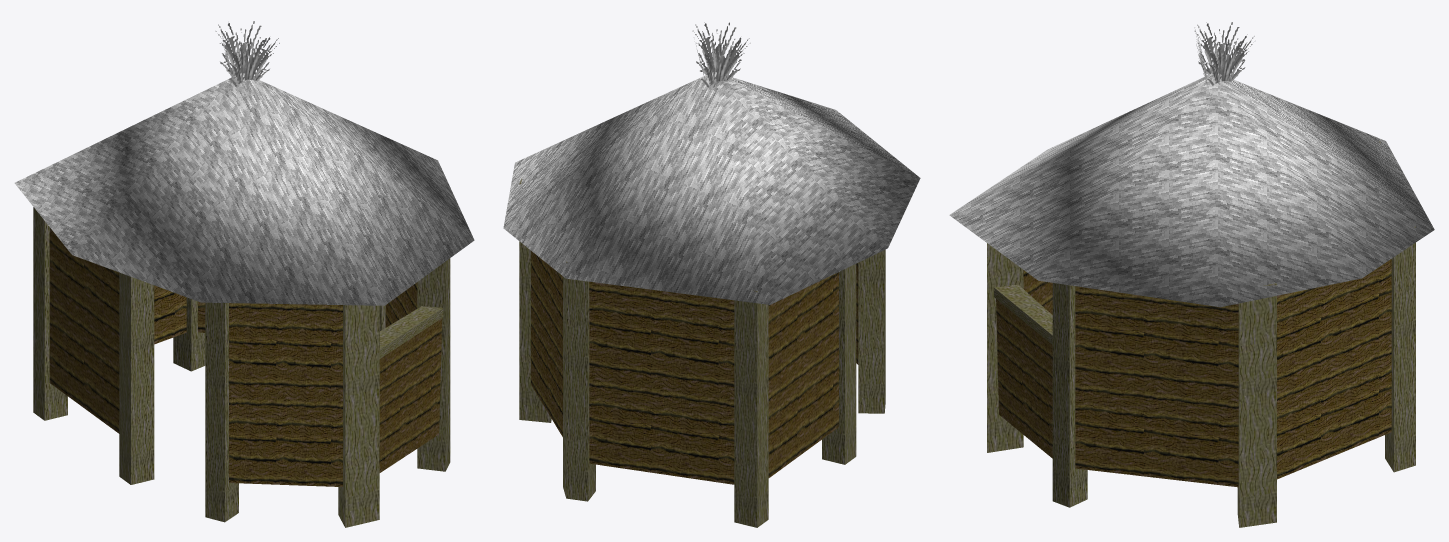
Rendered from hut.obj.
The picture shows the model from 3 angles, left to right: view 1: azimuth 30°, elevation 25°; view 2: azimuth 150°, elevation 25°; view 3: azimuth 270°, elevation 25°; orthographic projection.
Parts seen in each view (by area): view 1: Cylinder05, Duplicate11, Box01, Duplicate04, Duplicate01, Duplicate12, Duplicate03, Duplicate05, Box02, Duplicate08, Duplicate13, Duplicate06 (+1 smaller); view 2: Cylinder05, Duplicate08, Box01, Box02, Duplicate06, Duplicate09, Duplicate03, Duplicate01, Duplicate07, Duplicate04; view 3: Cylinder05, Duplicate10, Duplicate09, Duplicate07, Duplicate05, Duplicate12, Duplicate06, Duplicate04, Duplicate13, Duplicate11.
Boxes of the visible parts, x1,y1,x2,y2 form: Cylinder05: [14, 73, 474, 305]; Duplicate11: [229, 303, 342, 486]; Box01: [49, 37, 279, 433]; Duplicate04: [220, 27, 379, 527]; Duplicate01: [119, 272, 154, 484]; Duplicate12: [379, 318, 442, 472]; Duplicate03: [205, 302, 238, 522]; Duplicate05: [215, 21, 450, 471]; Box02: [33, 207, 67, 420]; Duplicate08: [154, 285, 186, 344]; Duplicate13: [366, 306, 443, 367]; Duplicate06: [173, 297, 205, 371]; Cylinder05: [503, 72, 920, 304]; Duplicate08: [589, 281, 734, 484]; Box01: [693, 22, 838, 477]; Box02: [734, 290, 768, 527]; Duplicate06: [563, 261, 595, 501]; Duplicate09: [531, 251, 562, 436]; Duplicate03: [858, 249, 885, 413]; Duplicate01: [822, 264, 856, 464]; Duplicate07: [519, 178, 551, 422]; Duplicate04: [700, 37, 750, 87]; Cylinder05: [949, 73, 1434, 307]; Duplicate10: [1075, 286, 1238, 487]; Duplicate09: [1277, 259, 1391, 479]; Duplicate07: [1237, 283, 1276, 527]; Duplicate05: [1052, 34, 1254, 507]; Duplicate12: [996, 299, 1052, 458]; Duplicate06: [1385, 226, 1415, 472]; Duplicate04: [987, 22, 1244, 452]; Duplicate13: [994, 284, 1052, 344]; Duplicate11: [1023, 270, 1052, 314].
Bounding box in the file's own units: 77.86 × 82.81 × 88.2.
